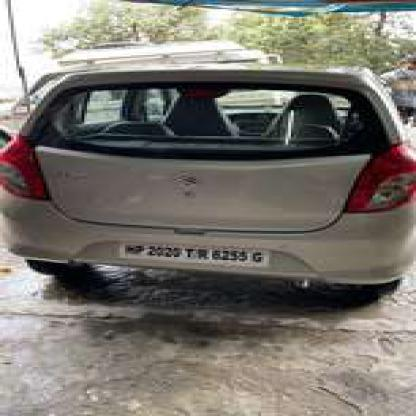license_plate: (117, 240, 264, 266)
